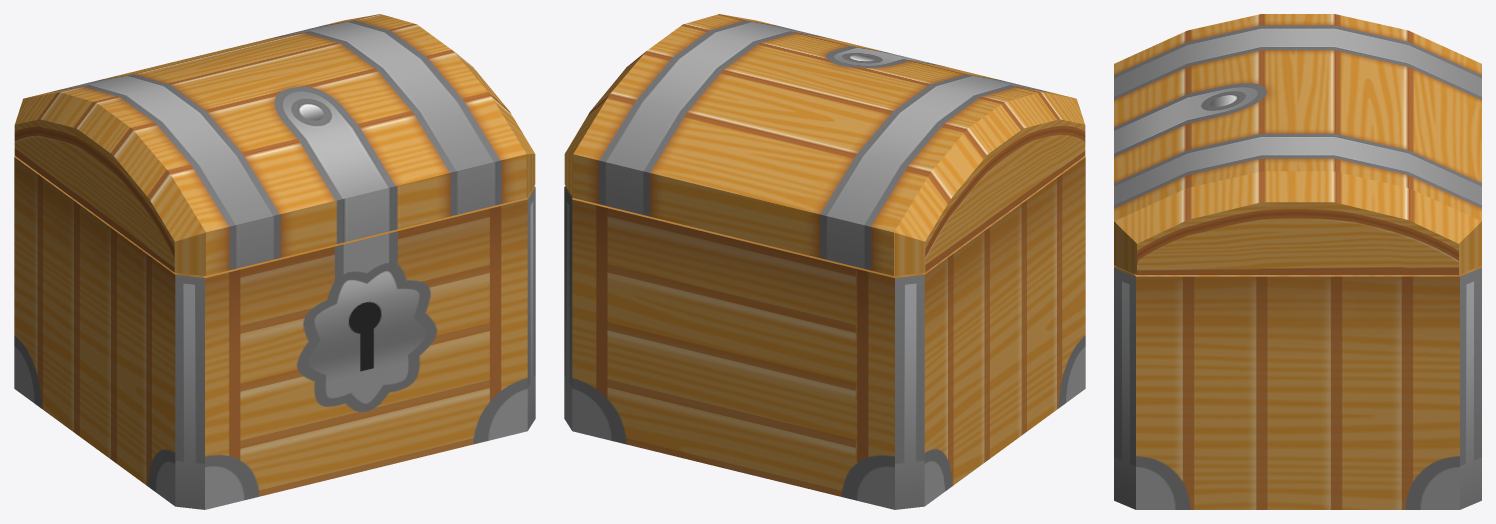
Rendered from chest_silver.fbx.
The picture shows the model from 3 angles, left to right: view 1: azimuth 30°, elevation 25°; view 2: azimuth 150°, elevation 25°; view 3: azimuth 270°, elevation 25°; orthographic projection.
Visible parts, largest first — view 1: base, lid; view 2: base, lid; view 3: lid, base.
Part boxes in pixels (bbox=[...]): base: bbox=[14, 156, 535, 509]; lid: bbox=[14, 14, 535, 275]; base: bbox=[564, 156, 1085, 509]; lid: bbox=[564, 14, 1085, 275]; lid: bbox=[1114, 14, 1481, 274]; base: bbox=[1114, 265, 1481, 509].
Bounding box in the file's own units: 99.87 × 86.55 × 87.75.
Materials: 2 (2 with a texture image).
